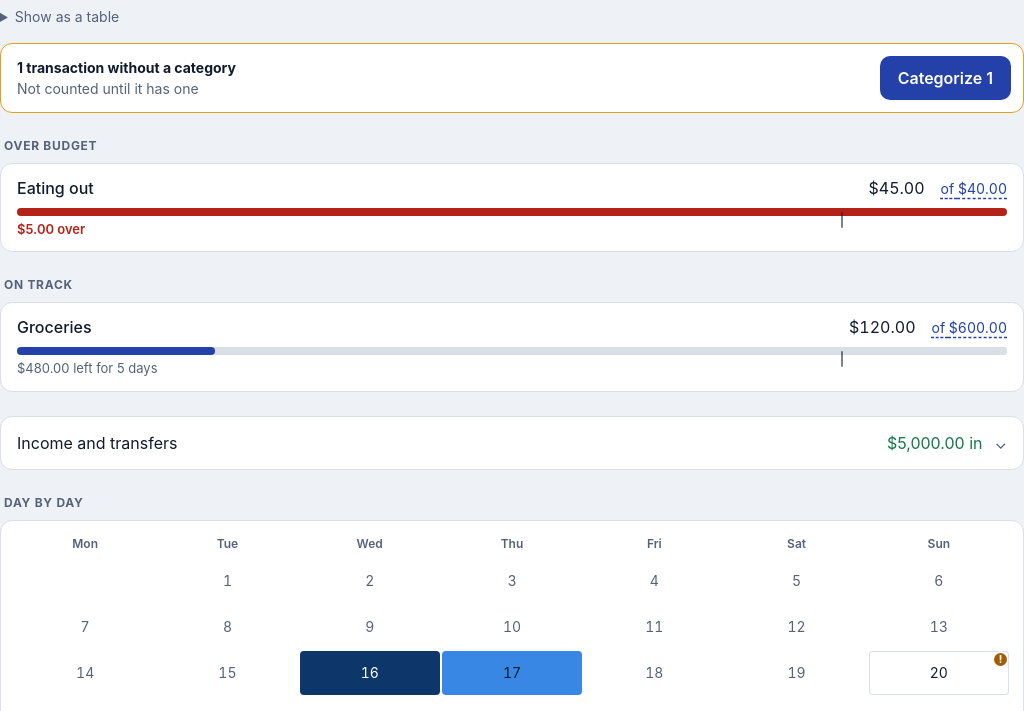
Test: the month › refuses a budget that is not a number, and says why a save was refused
(page scrolled)
Step 1. Click the button with aria-label "Budget for Groceries: $600.00" → [969, 328], box [924, 306, 1015, 350]
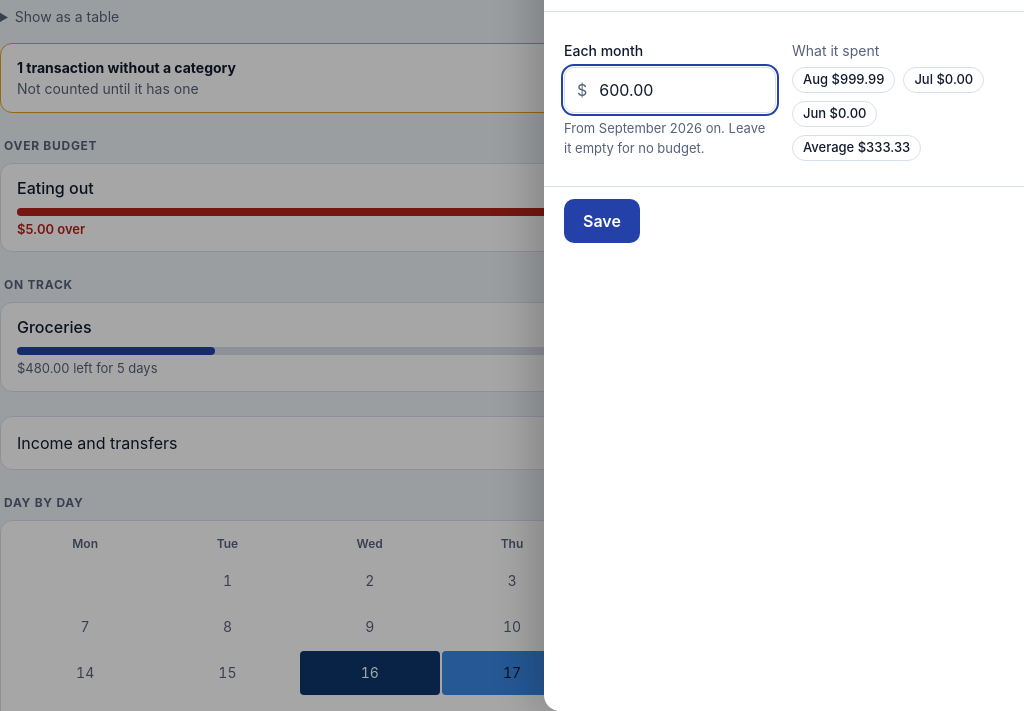
Step 2. Replace the text in the field labelled "Each month" with "lots" → [687, 90], box [599, 68, 775, 112]
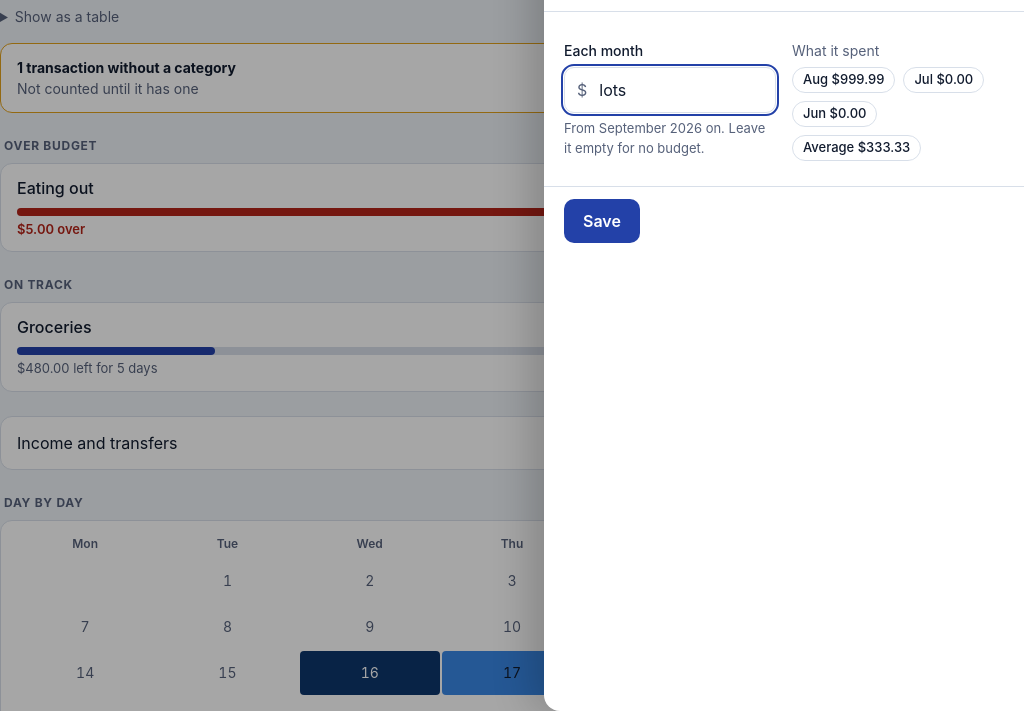
Step 3. Click the button "Save" → [602, 221], box [564, 199, 640, 243]
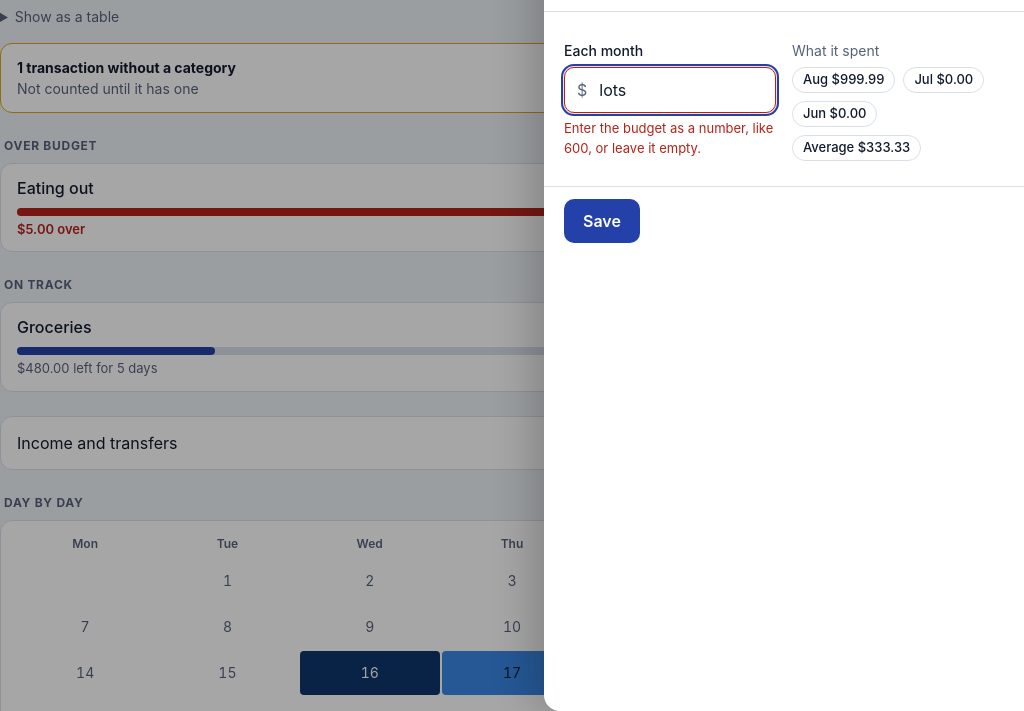
Now the dialog shows "Enter the budget as a number, like 600, or leave it empty.", box [564, 120, 773, 156]
Step 4. Replace the text in the field labelled "Each month" with "700" → [687, 90], box [599, 68, 775, 112]
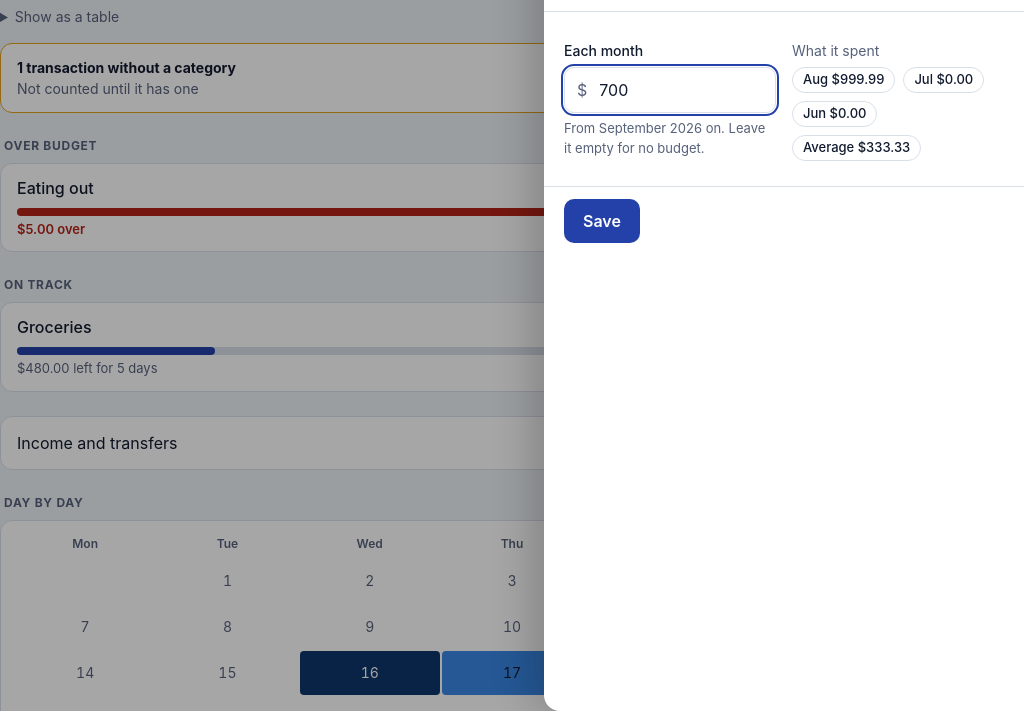
Step 5. Click the button "Save" → [602, 221], box [564, 199, 640, 243]
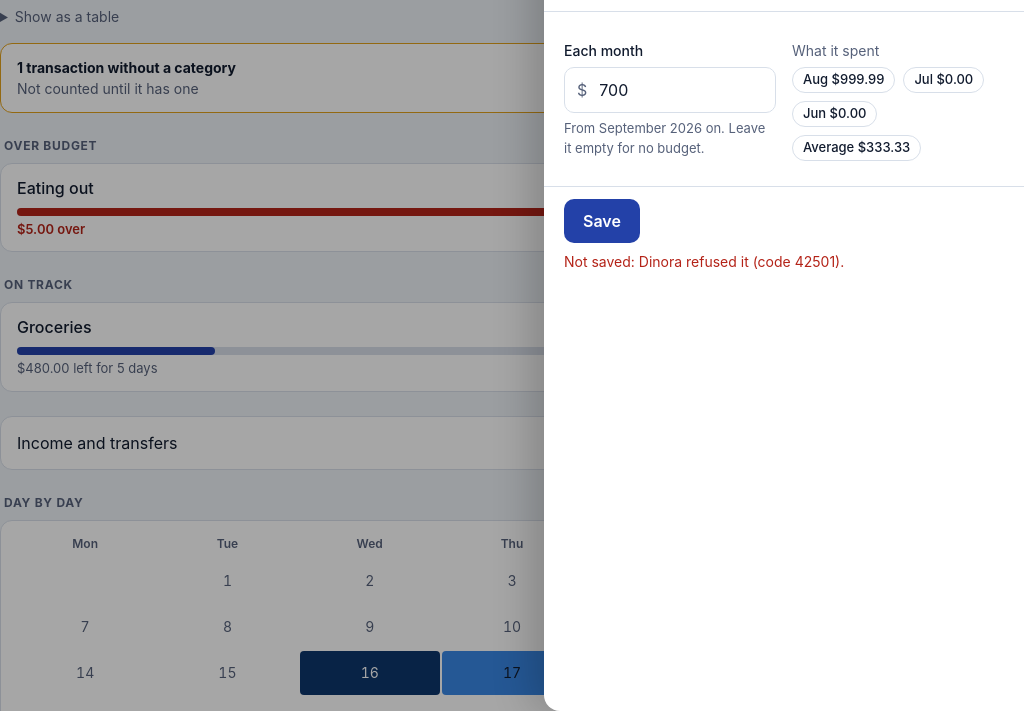
Now the text "Not saved: Dinora refused it (code 42501)." is shown, box [564, 253, 844, 270]
